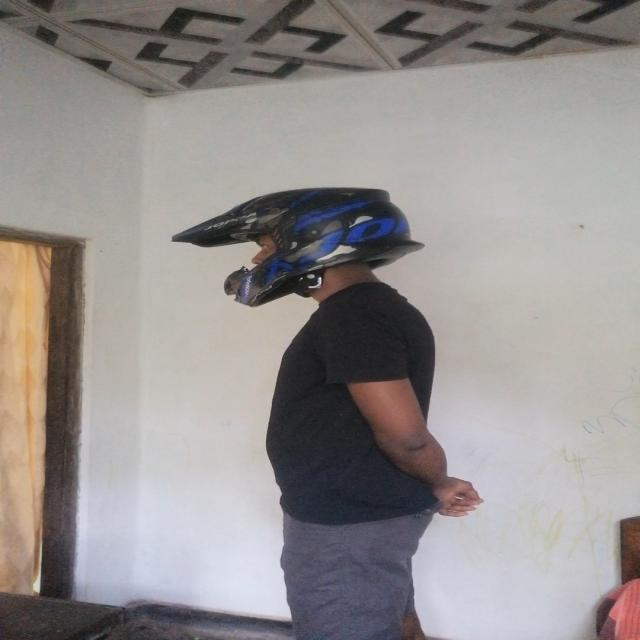Helmet_Wearer: (158, 179, 429, 317)
Person: (228, 186, 485, 640)
